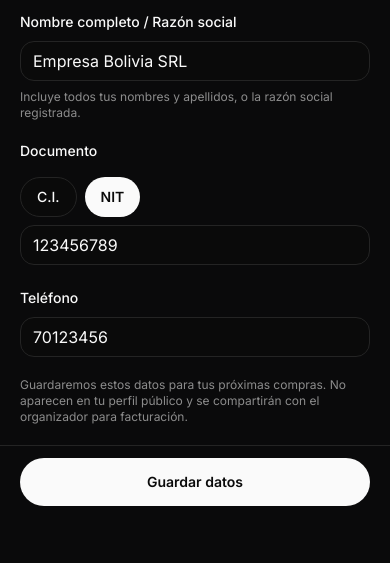
Scenario: billing capture › keeps entered data available after a save failure
The width and height of the screenshot is (390, 563).
What coordinates should you click on to do the following:
click the button "Guardar datos"
I would click on:
 (195, 482)
Its box is [20,458,370,506].
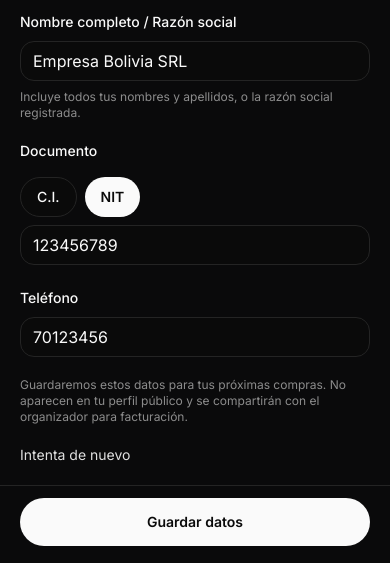
expect the field labelled "Nombre completo / Razón social" holds "Empresa Bolivia SRL": met, box [20,41,370,81]
expect the message "Intenta de nuevo" is shown: met, box [20,446,130,463]
